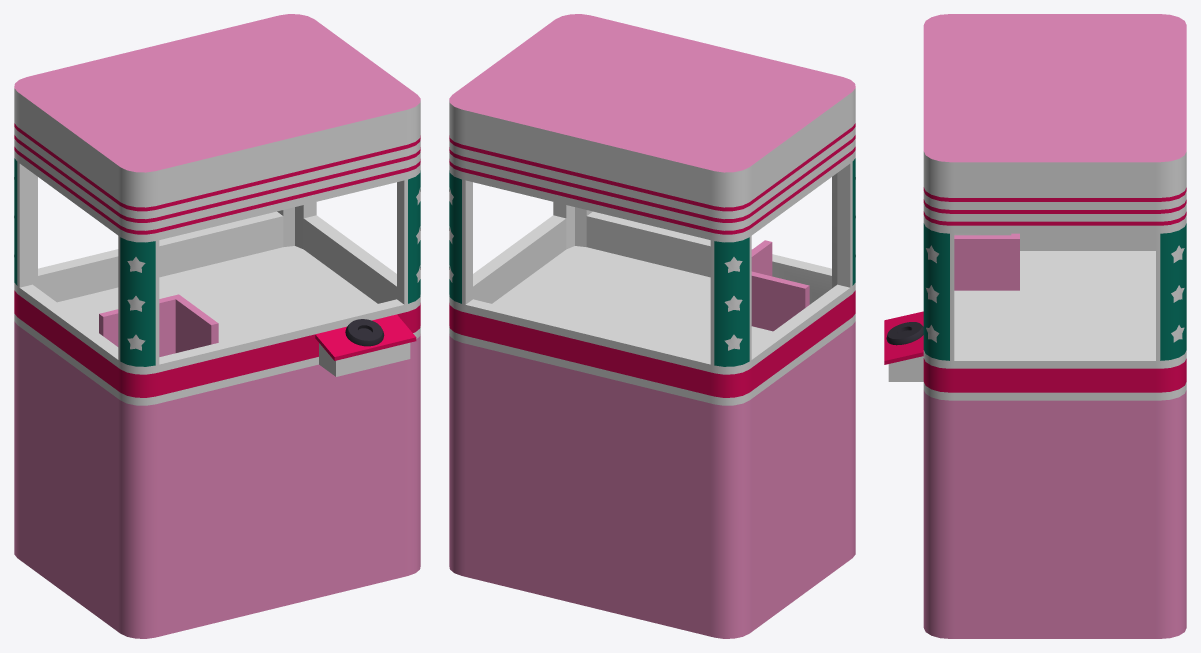
Rendered from clawmachine.fbx.
3 renders of one model, left to right at view 1: azimuth 30°, elevation 25°; view 2: azimuth 150°, elevation 25°; view 3: azimuth 270°, elevation 25°, orthographic. The views are drawn at different scales.
Visible parts, largest first — view 1: machine; view 2: machine; view 3: machine.
Part boxes in pixels (<box>): machine: <box>14,14,420,638</box>; machine: <box>449,14,855,638</box>; machine: <box>884,14,1186,638</box>.
Size of the model in its own units: 800 by 1200 by 690.
